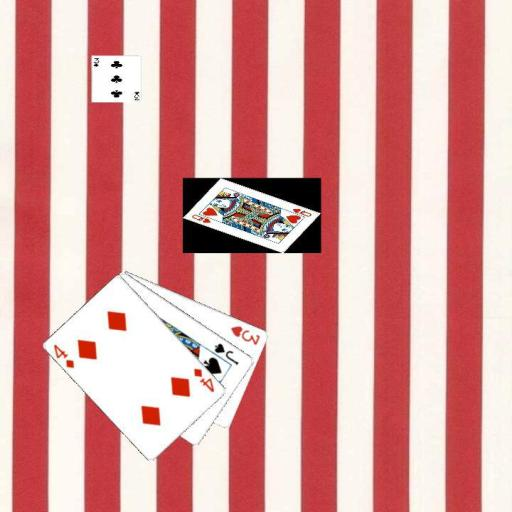3H: (228, 323, 262, 346)
4D: (191, 365, 216, 394), (51, 341, 76, 370)
JS: (212, 340, 241, 366)
